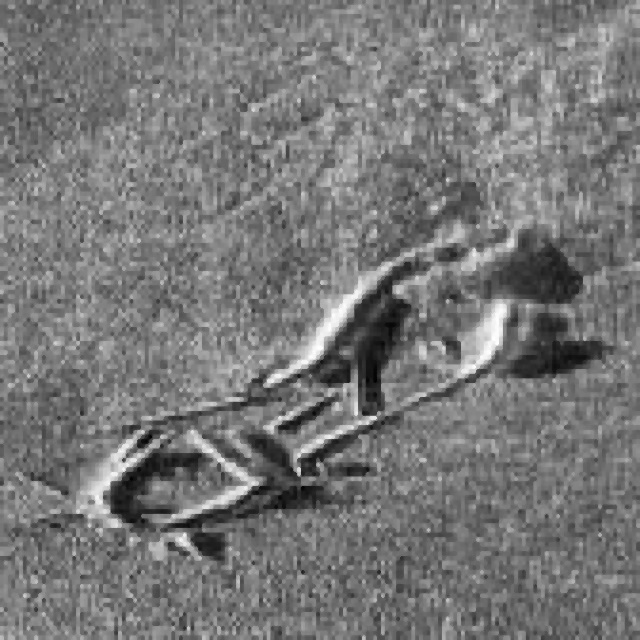Ship: (45, 195, 591, 571)
